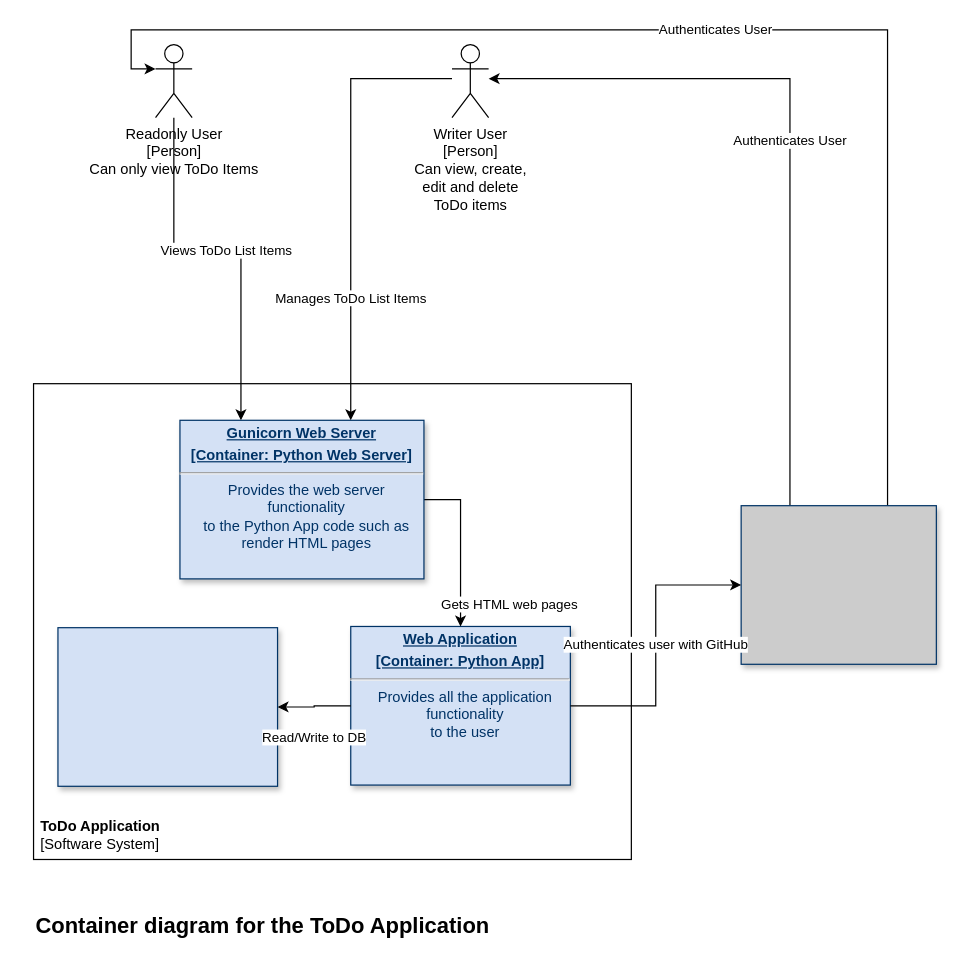
Image size: 965x966. Some labels were removed from this diagram. The centre of each missing label's shape, as x and y in pixels:
"Database [Container: MongoDB] Stores ToDo items along with their status" goes at (x=168, y=708).
"GitHub OAuth API [Software System] OAuth system to authenticate users" goes at (x=839, y=586).
